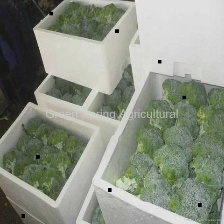foam_box: (88, 64, 224, 224), (0, 98, 106, 224), (28, 0, 144, 97)
